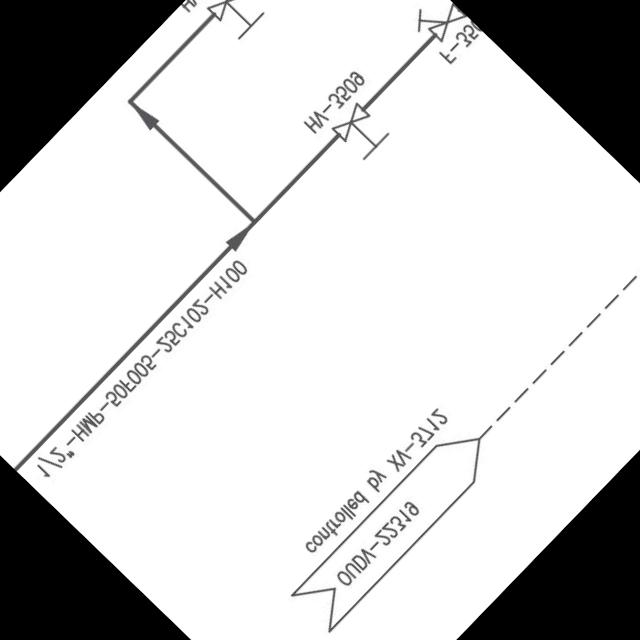HVWT: (324, 96, 399, 171), (198, 0, 270, 48)
S: (401, 0, 468, 53)
